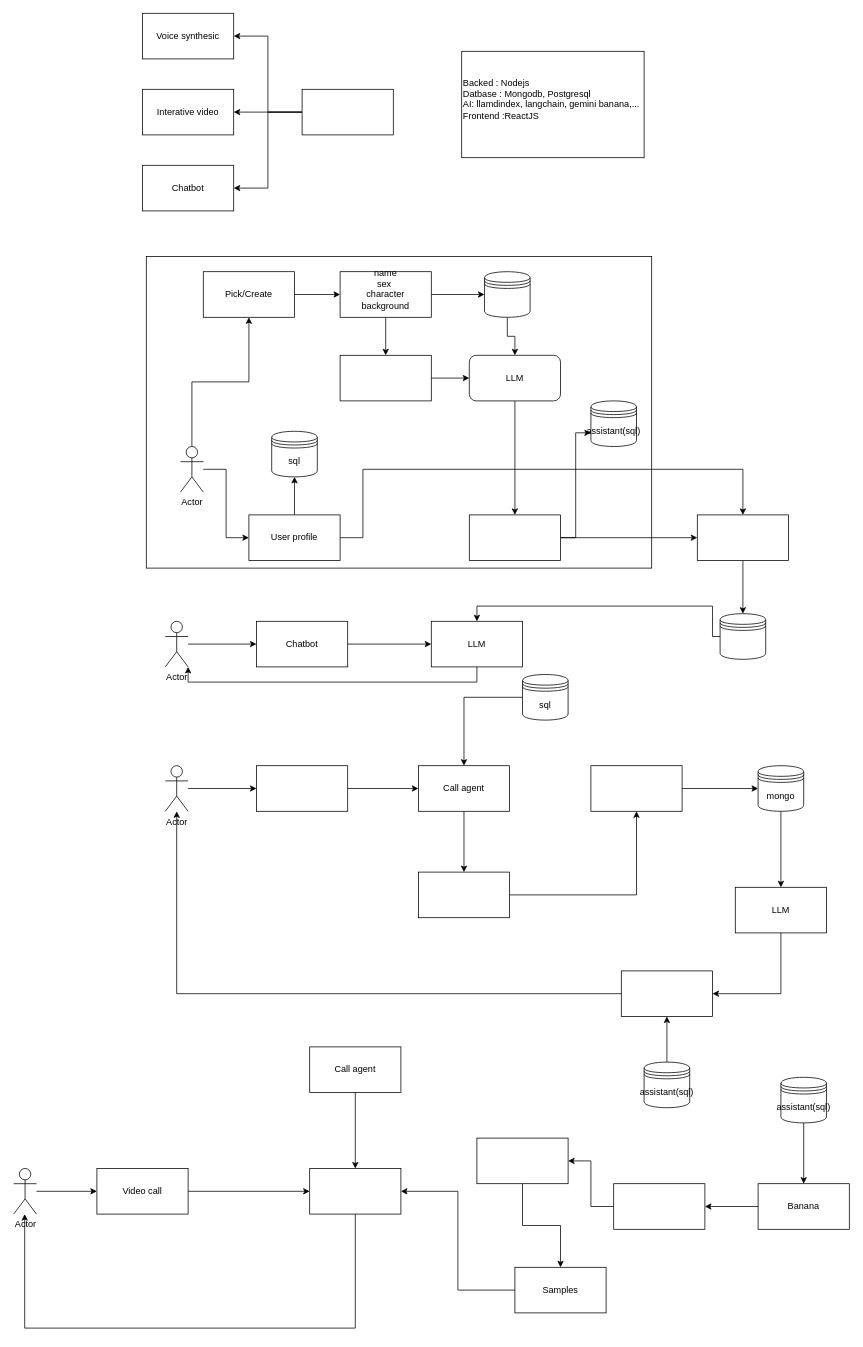
Some shapes in this 863 by 1347 pixel diagram are drawn without their labels. Each missing label, with the centre of its shape:
Additional: the point at 385,378
Agent ngừoi thân: the point at 347,112
ASR: the point at 636,788
Assistant profile: the point at 514,537
Image: the point at 659,1206
Image to video: the point at 522,1160
RAG pipeline: the point at 742,537
speech prossor: the point at 464,894
store: the point at 507,294
TTS: the point at 666,993
vector: the point at 742,636
Video agent: the point at 355,1191
Voice call: the point at 302,788
